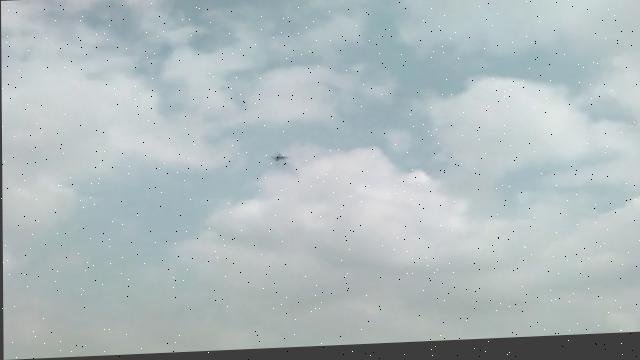drone: (267, 148, 291, 168)
